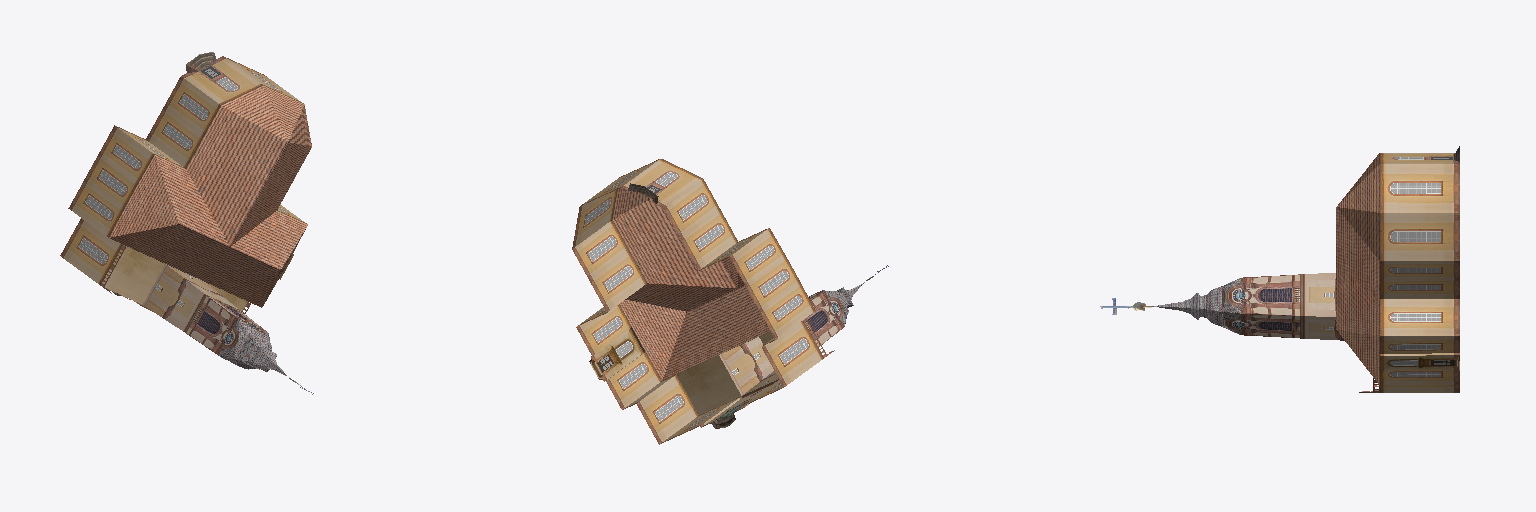
3 views of the same model, side by side, from view 1: azimuth 30°, elevation 25°; view 2: azimuth 150°, elevation 25°; view 3: azimuth 270°, elevation 25° (orthographic).
Parts seen in each view (by area): view 1: DEU_599_KARLSRUHE_GEDAECH; view 2: DEU_599_KARLSRUHE_GEDAECH; view 3: DEU_599_KARLSRUHE_GEDAECH.
Boxes of the visible parts, x1,y1,x2,y2 form: DEU_599_KARLSRUHE_GEDAECH: [60, 52, 313, 394]; DEU_599_KARLSRUHE_GEDAECH: [572, 159, 888, 444]; DEU_599_KARLSRUHE_GEDAECH: [1100, 146, 1459, 392].
Size of the model in its own units: 23.52 by 27.07 by 34.61.
Materials: 1 (1 with a texture image).